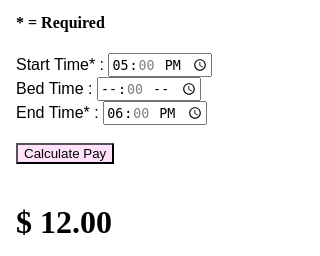
Scenario: Babysitter › 12 a.m. to 2 a.m., 1 a.m. bedtime
This screenshot has width=320, height=256.
Step 1. Replace the text in the time field with id "startTime" with "00:00" → (160, 65), box 108,53 -> 212,77
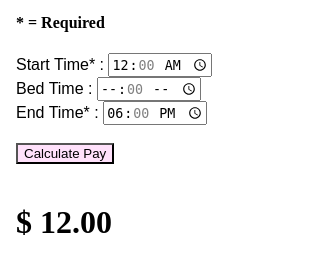
Step 2. Type "01:00" into the time field with id "bedTime" → (149, 89), box 97,77 -> 201,101
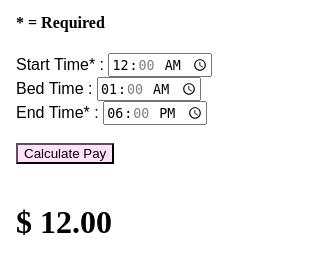
Step 3. Replace the text in the time field with id "endTime" with "02:00" → (155, 113), box 103,101 -> 207,125
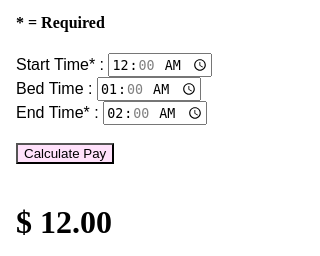
Step 4. Click the button with id "calcPayBtn" → click(65, 154), box 16,143 -> 114,164
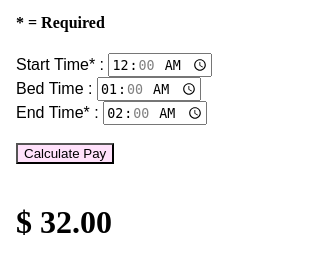
Result: the heading "$ 32.00" is shown at 16,204 -> 112,240
